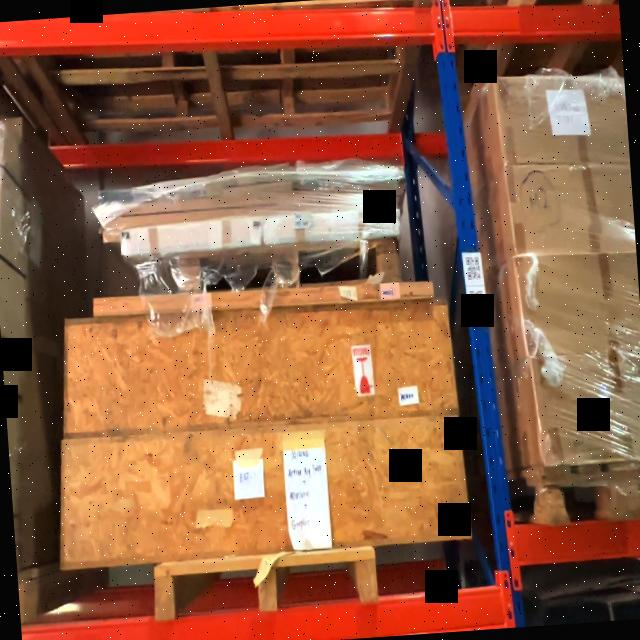box: (59, 413, 466, 562), (65, 298, 455, 428)
